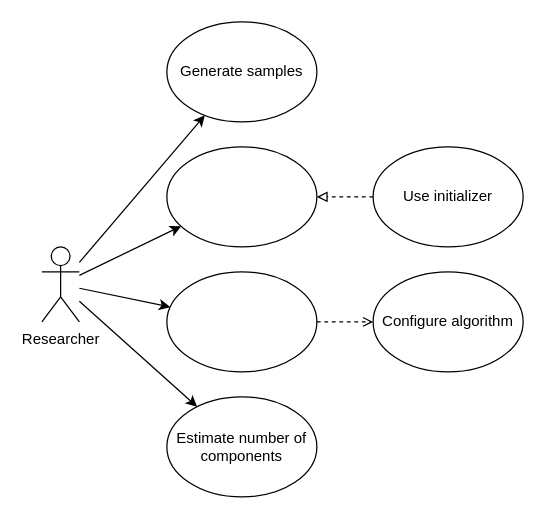
This 545x519 diagram has some shape labels left out. The box of each missing label's shape, as (x1, y1, x2, y2) in pixels:
Configure mixture parameters: (166, 146, 317, 247)
Run algorithm: (166, 271, 317, 372)
